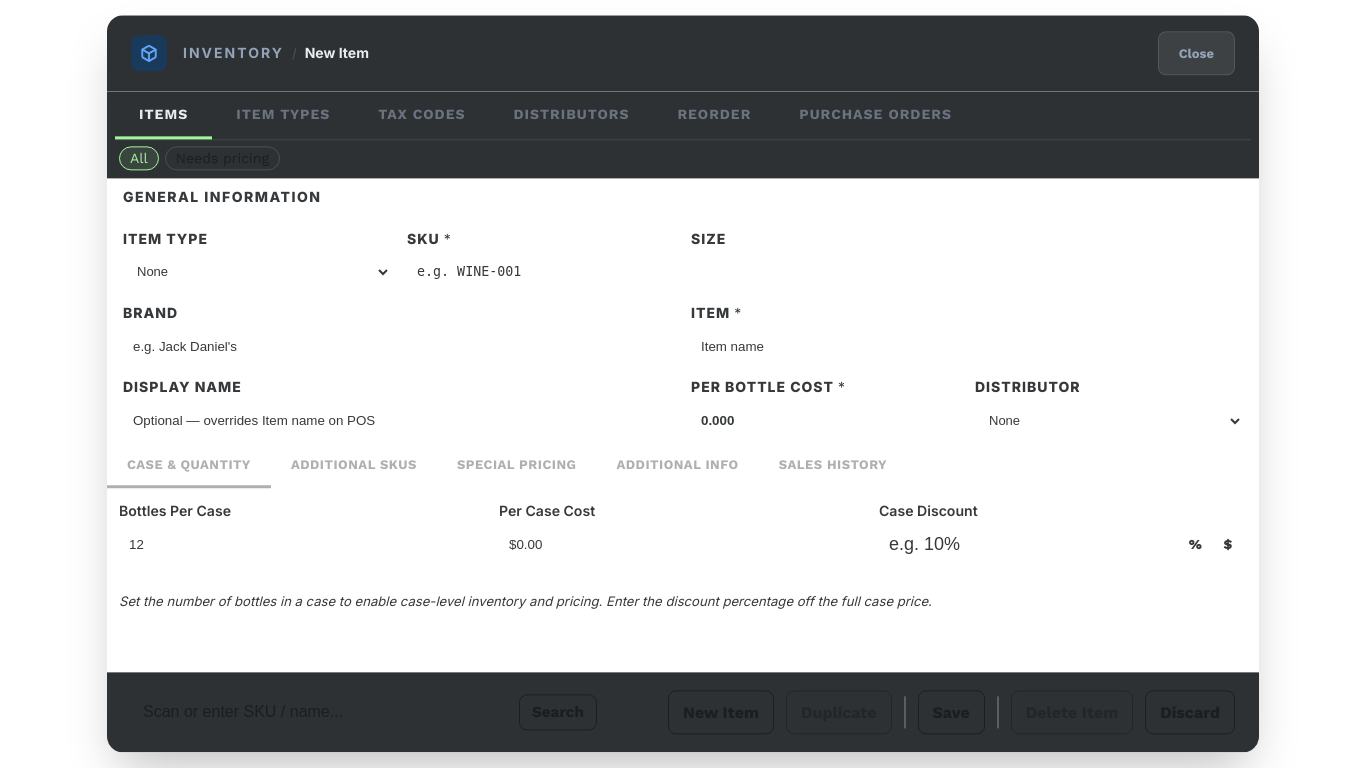
Test case: InventoryModal › switches to Tax Codes panel when tab is clicked
Click the tab "Tax Codes".
click(422, 115)  # box [354,91,490,139]
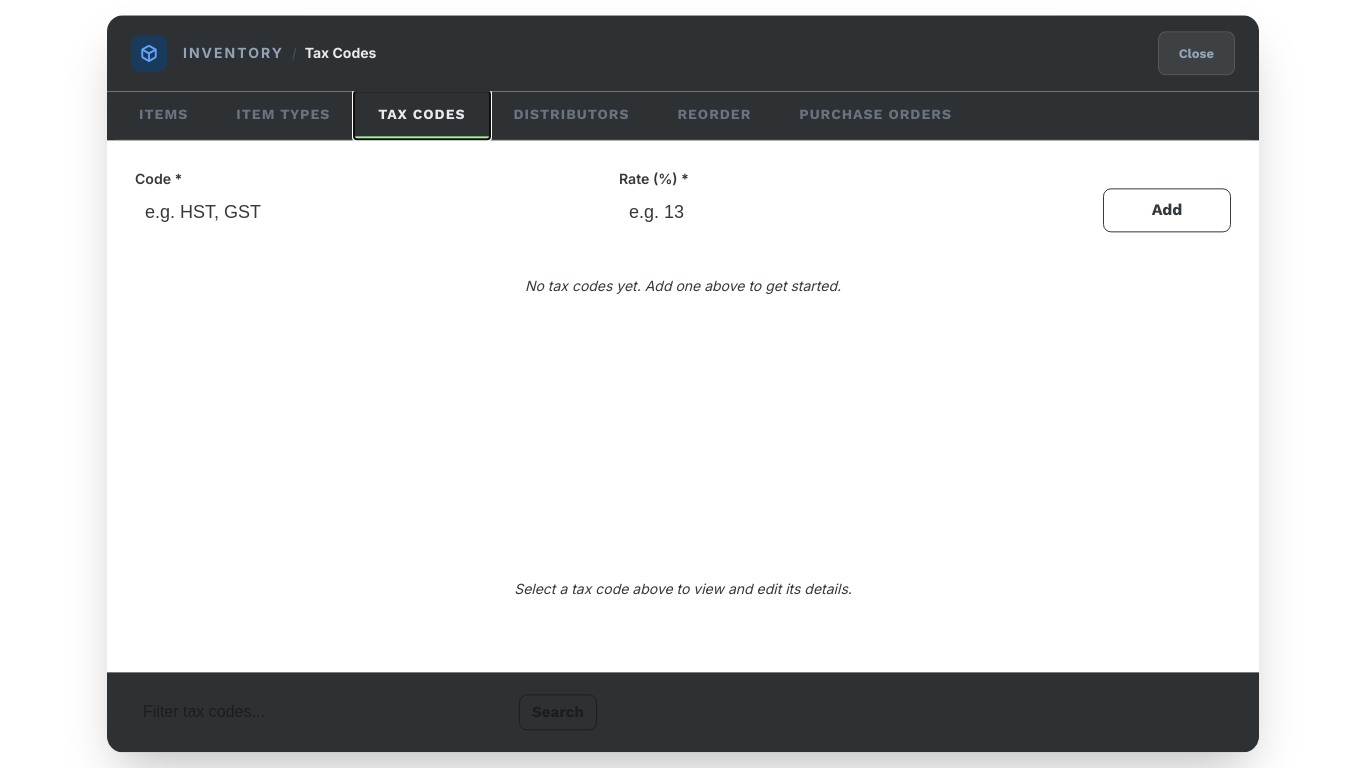
Result: the panel "tax codes" is shown at [107,140,1259,673]
